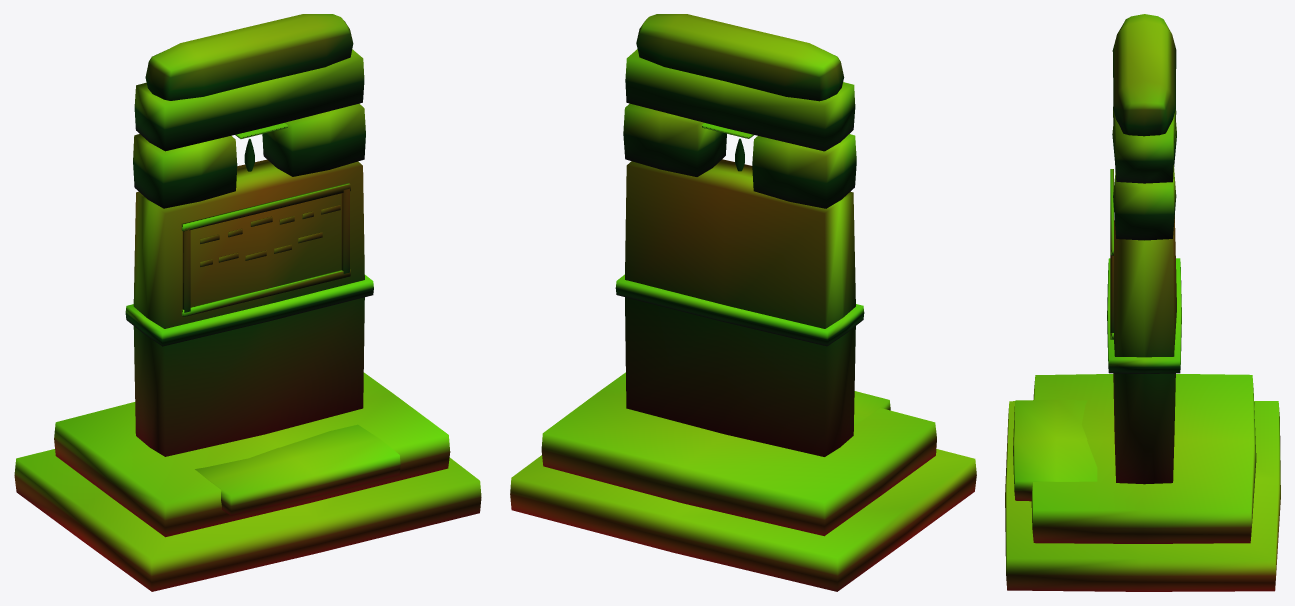
Rendered from grave_stele_a.glb.
3 renders of one model, left to right at view 1: azimuth 30°, elevation 25°; view 2: azimuth 150°, elevation 25°; view 3: azimuth 270°, elevation 25°, orthographic.
Visible parts, largest first — view 1: grave_stele_a; view 2: grave_stele_a; view 3: grave_stele_a.
Part boxes in pixels (bbox=[...]): grave_stele_a: bbox=[14, 14, 481, 591]; grave_stele_a: bbox=[510, 14, 976, 591]; grave_stele_a: bbox=[1005, 14, 1280, 591].
Size of what is drawn, in the model's own units: 0.8757 by 1.2 by 0.6402.
